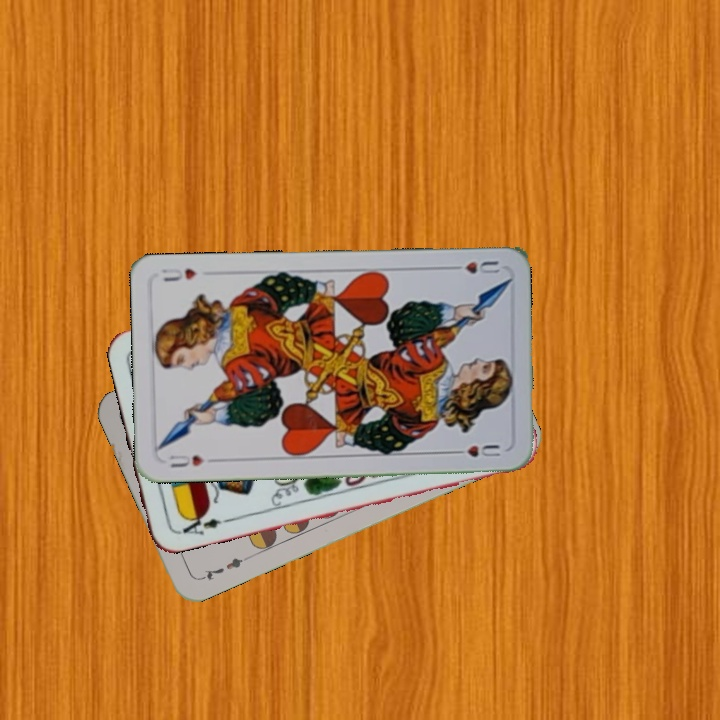E7: (196, 552, 252, 583)
EA: (173, 508, 232, 538)
HU: (445, 257, 502, 277), (165, 451, 208, 471)
